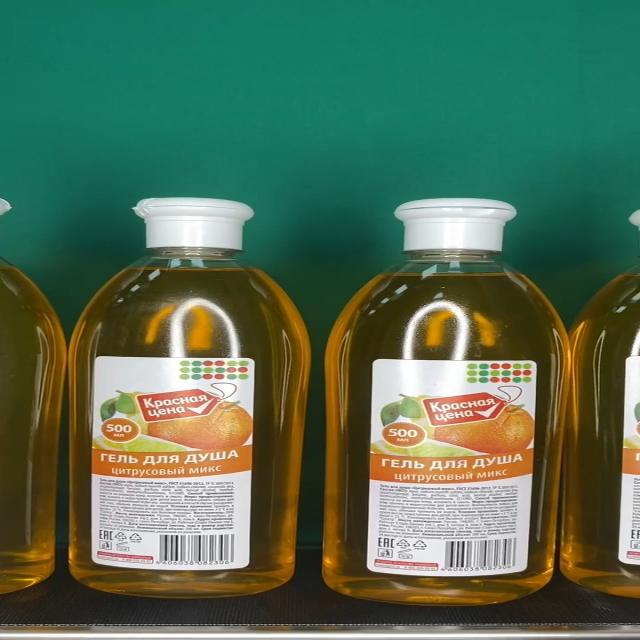Bottle: (323, 198, 571, 606), (68, 197, 311, 598)
Cap: (393, 199, 517, 252), (135, 198, 254, 249)
